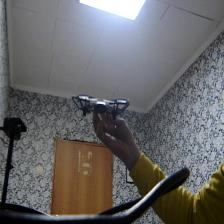drone: (70, 87, 133, 122)
